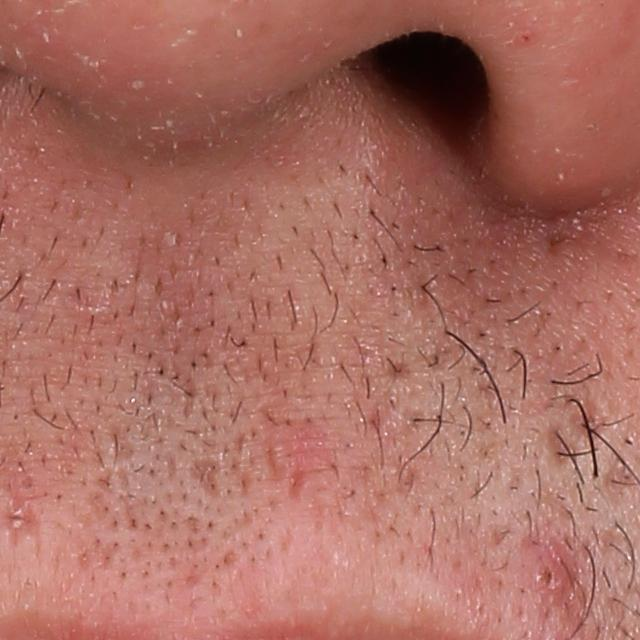atrophic_scar: (263, 418, 335, 507), (2, 473, 40, 556), (600, 452, 637, 519), (228, 427, 258, 502), (186, 453, 228, 499), (545, 426, 578, 470), (110, 429, 141, 460)
